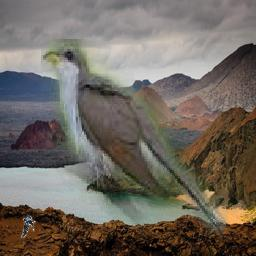Cuckoo: (42, 39, 229, 237)
Swallow: (20, 216, 36, 239)
